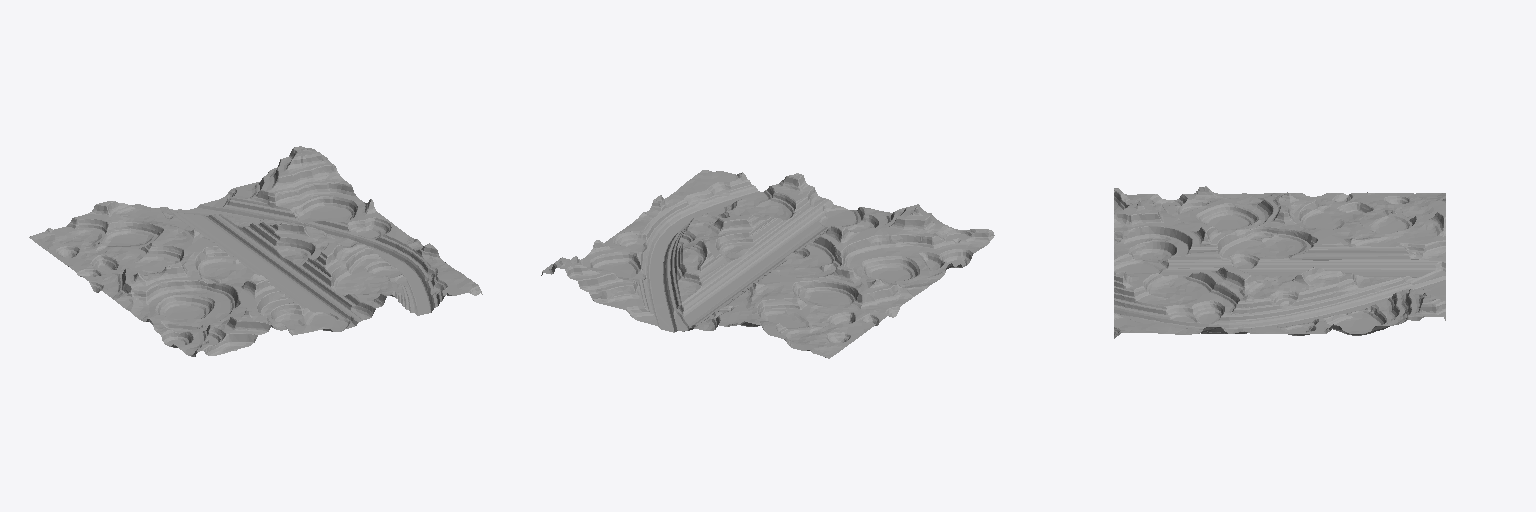
The picture shows the model from 3 angles: view 1: azimuth 30°, elevation 25°; view 2: azimuth 150°, elevation 25°; view 3: azimuth 270°, elevation 25°; orthographic projection.
Parts seen in each view (by area): view 1: O4_TerrainMesh.010; view 2: O4_TerrainMesh.010; view 3: O4_TerrainMesh.010.
Part boxes in pixels (x1,y1,x2,y2): O4_TerrainMesh.010: (29, 146, 482, 356); O4_TerrainMesh.010: (541, 170, 994, 358); O4_TerrainMesh.010: (1114, 186, 1445, 338).
Bounding box in the file's own units: 1 × 0.1235 × 1.